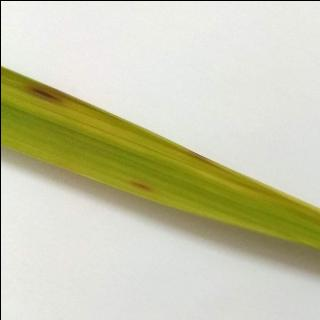bercak-Cokelat: (25, 86, 68, 108), (128, 174, 156, 194)
